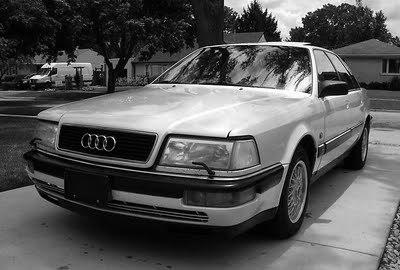car: (19, 41, 375, 241)
